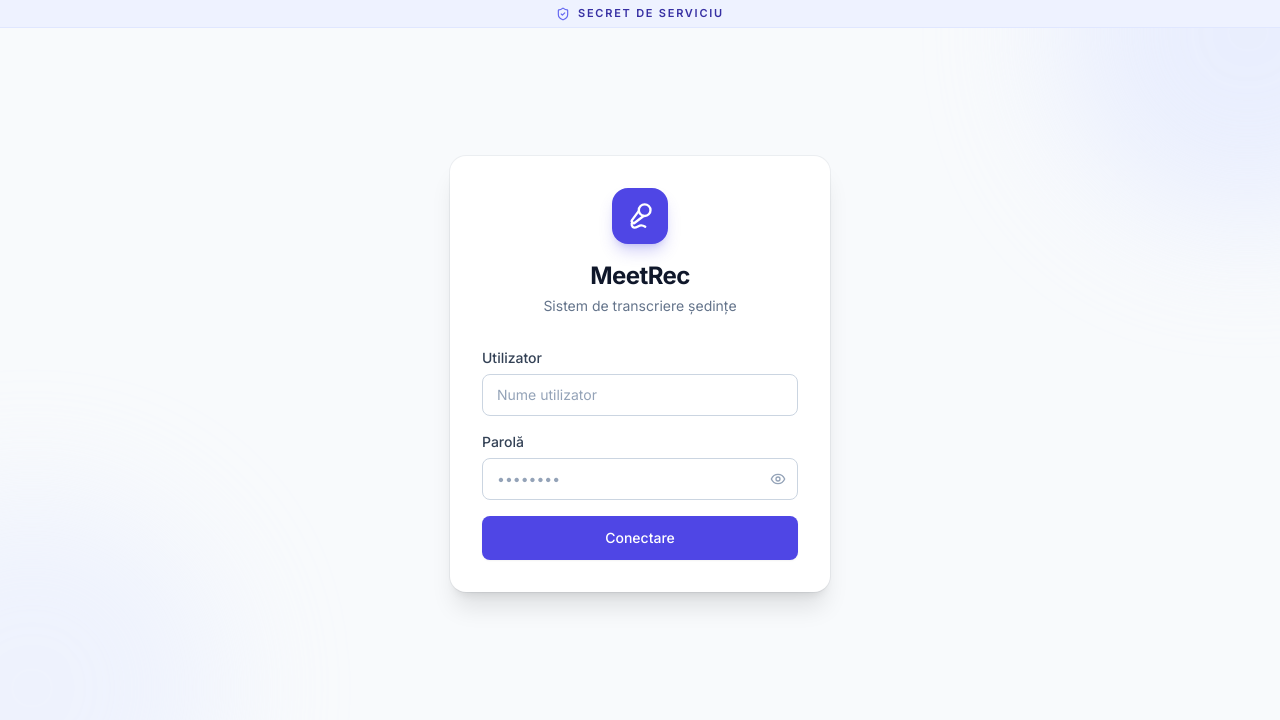
Test: LoginPage — submit › butonul afișează "Se conectează..." în timp ce loading
This screenshot has width=1280, height=720.
Type "admin" into the field with placeholder "Nume utilizator" at (640, 395), box [482, 374, 798, 416]
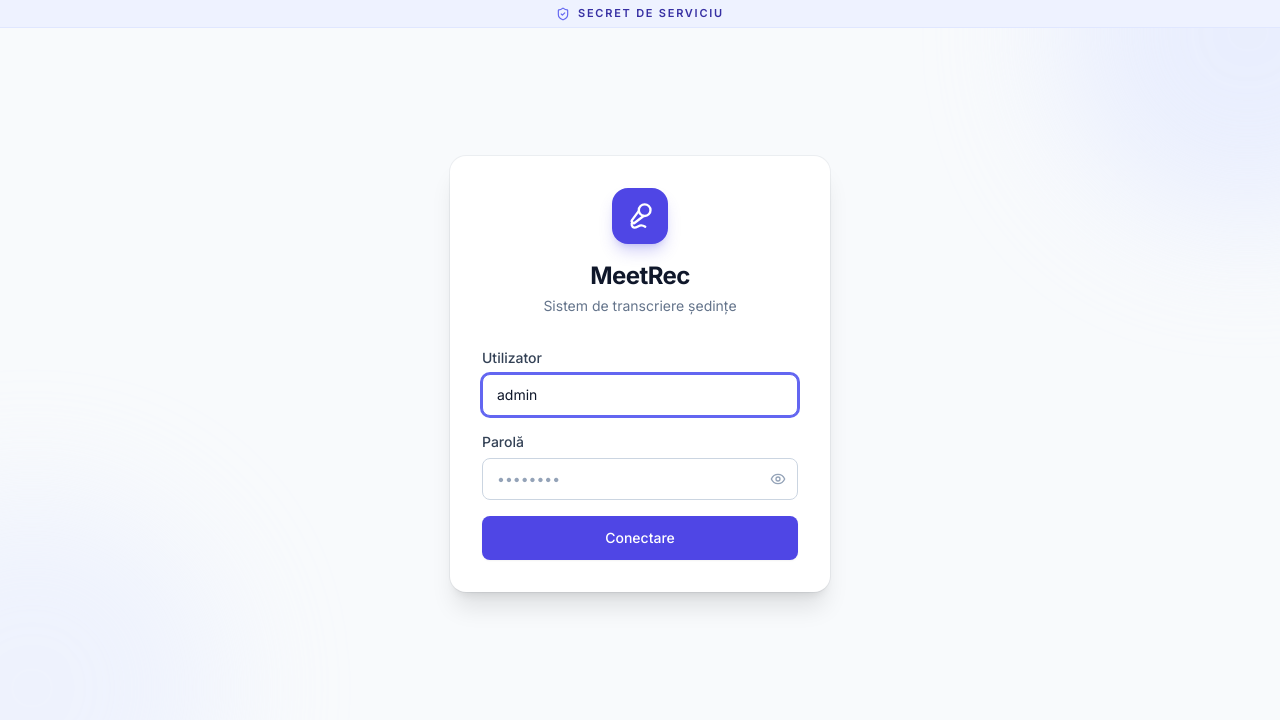
Type "parola" into the password field with placeholder "••••••••" at (640, 479), box [482, 458, 798, 500]
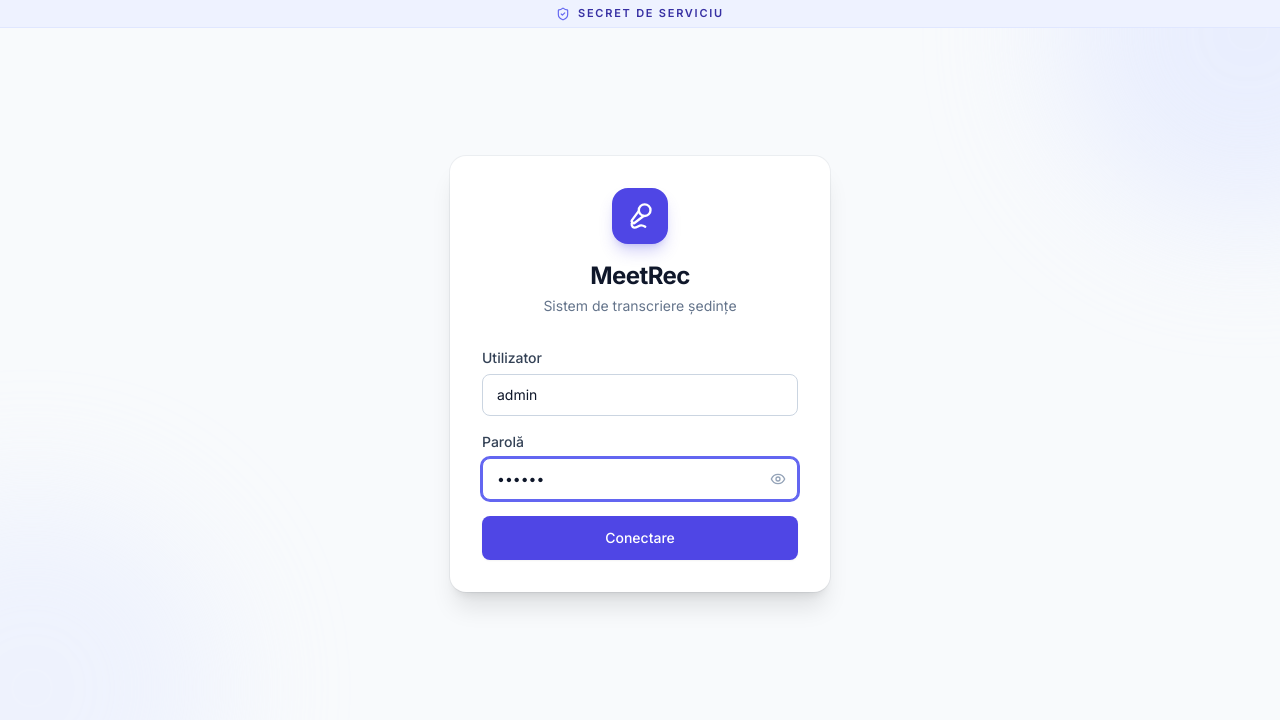
Click the button "Conectare" at (640, 538), box [482, 516, 798, 560]
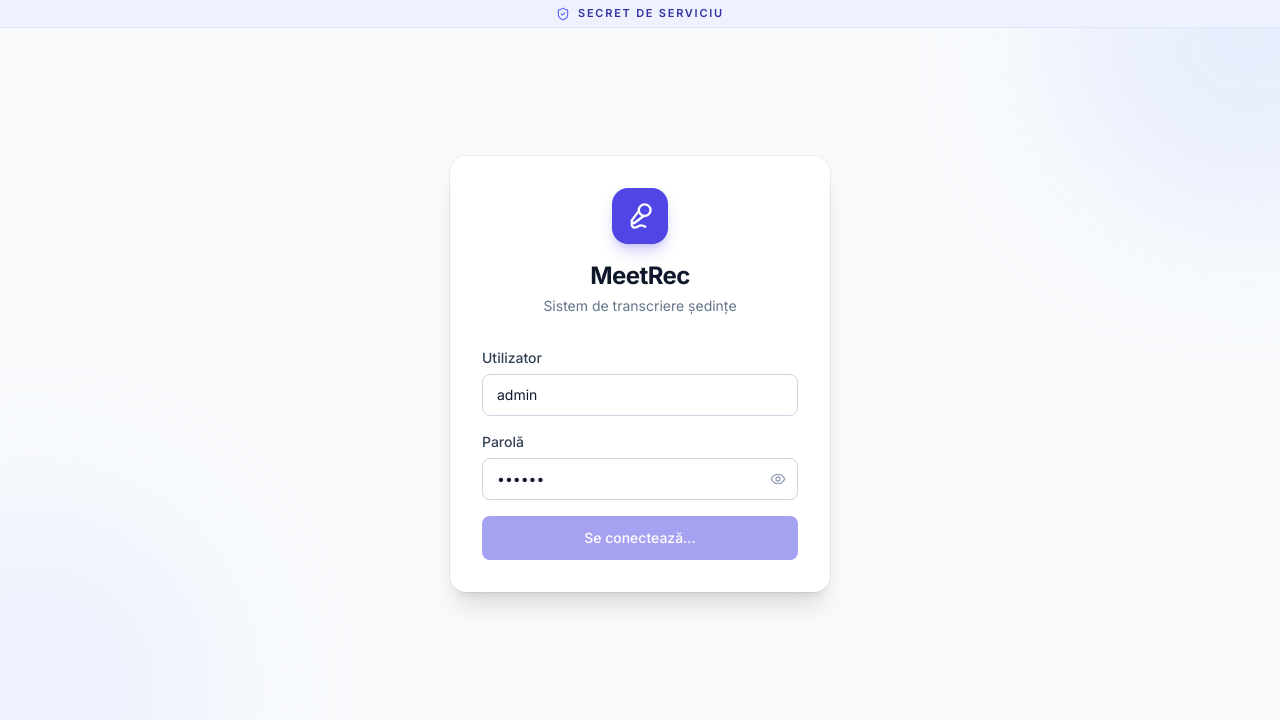
Check: the button "Se conectează..." is shown, box [482, 516, 798, 560]
